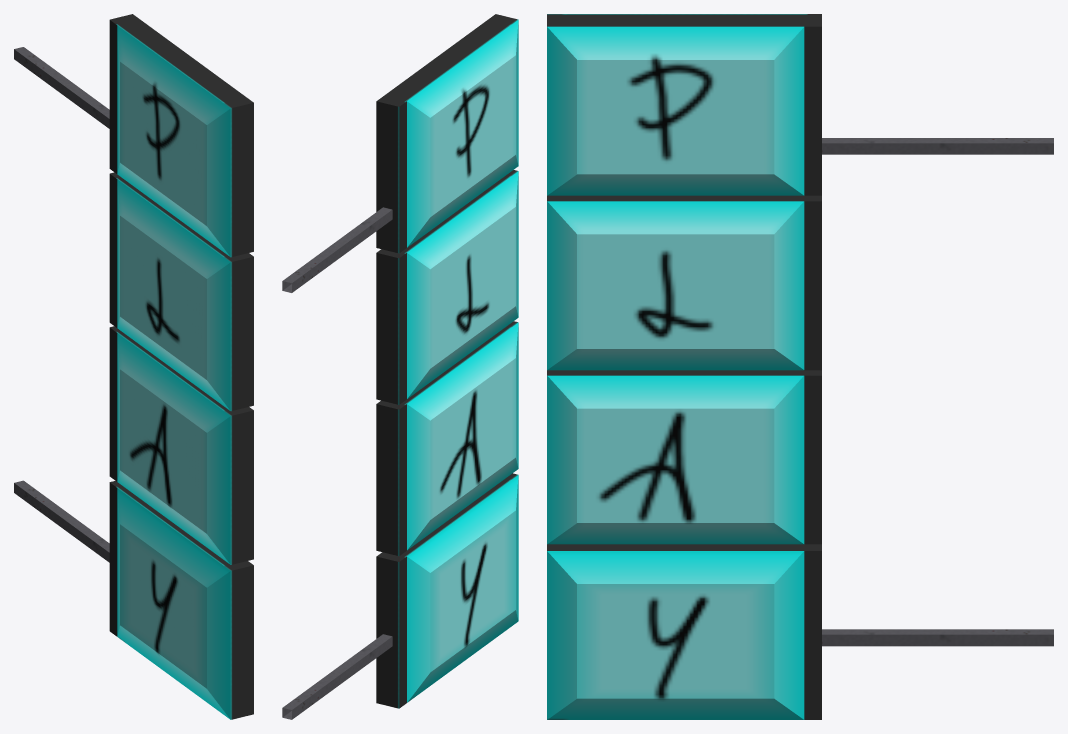
File: Ad04_Art.glb
3 renders of one model, left to right at view 1: azimuth 30°, elevation 25°; view 2: azimuth 150°, elevation 25°; view 3: azimuth 270°, elevation 25°, orthographic. The views are drawn at different scales.
Parts seen in each view (by area): view 1: Ad04_Art; view 2: Ad04_Art; view 3: Ad04_Art.
Part boxes in pixels (x1=…): Ad04_Art: x1=14, y1=14, x2=253, y2=719; Ad04_Art: x1=282, y1=14, x2=518, y2=719; Ad04_Art: x1=547, y1=14, x2=1053, y2=719.
Size of the model in its own units: 0.5936 by 7.83 by 5.18.
1 material, 1 textured.
